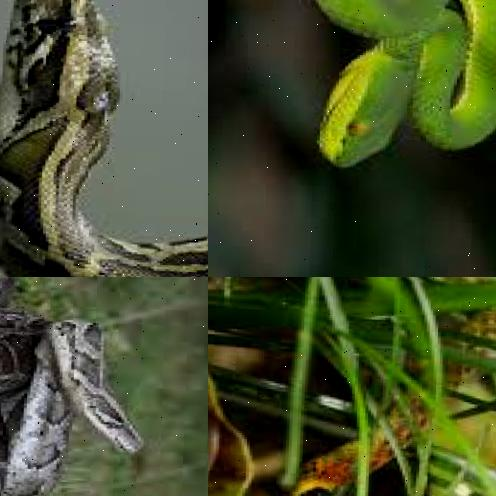snake: (0, 0, 208, 277), (260, 277, 496, 496), (0, 277, 172, 496), (300, 0, 496, 184)
